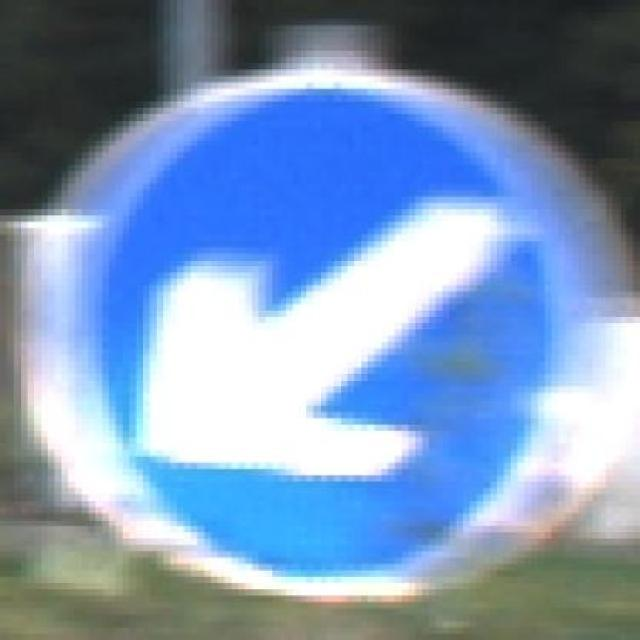Keep-Left: (47, 64, 613, 608)
